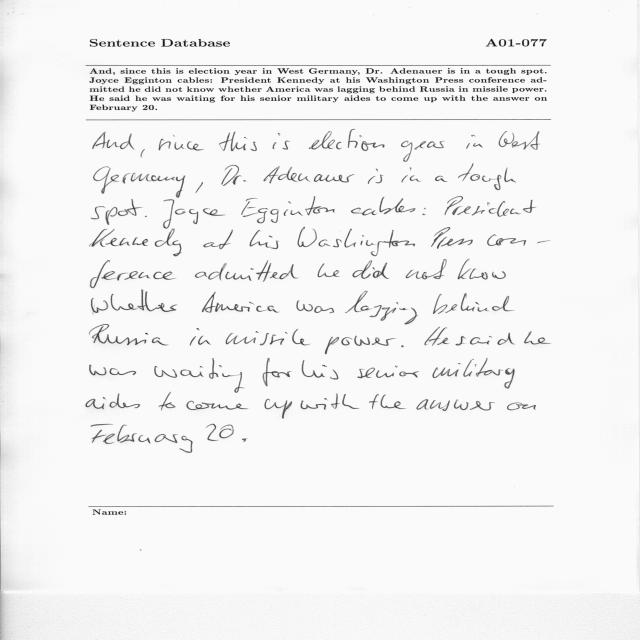word: (298, 227, 416, 256), (154, 358, 245, 393), (91, 424, 193, 453), (94, 166, 186, 198), (90, 229, 182, 257), (433, 358, 515, 389), (241, 197, 335, 224), (345, 291, 418, 324), (90, 260, 176, 288), (195, 260, 299, 282), (92, 290, 178, 314), (163, 199, 226, 229), (445, 197, 536, 217), (433, 293, 514, 314), (309, 129, 385, 151), (90, 325, 169, 346), (202, 292, 279, 313), (263, 167, 355, 184), (458, 164, 516, 190), (226, 329, 310, 346), (91, 199, 143, 225), (325, 336, 396, 354), (351, 197, 415, 215), (457, 259, 506, 280), (401, 140, 445, 162), (416, 399, 495, 411), (301, 394, 360, 410), (431, 227, 473, 249), (406, 259, 447, 279), (263, 358, 292, 386), (86, 394, 140, 409), (455, 333, 515, 346), (499, 131, 540, 150), (219, 132, 257, 152), (93, 132, 135, 150), (487, 234, 550, 246), (357, 366, 419, 378), (302, 360, 339, 380), (352, 260, 389, 279), (158, 135, 204, 150), (203, 230, 233, 250), (187, 401, 249, 410), (369, 394, 406, 409), (250, 230, 278, 249), (265, 399, 293, 418), (222, 165, 247, 186), (296, 301, 334, 314), (206, 424, 234, 441), (424, 327, 449, 346), (90, 365, 136, 375), (190, 328, 211, 346), (524, 332, 551, 345), (159, 392, 176, 411), (318, 264, 340, 278), (401, 168, 421, 183), (273, 133, 290, 150), (466, 135, 483, 149), (507, 403, 536, 411), (368, 169, 383, 184), (196, 182, 203, 193), (435, 176, 447, 182), (140, 149, 145, 158), (422, 208, 426, 215), (242, 438, 247, 442), (401, 345, 404, 347), (145, 216, 147, 217)
